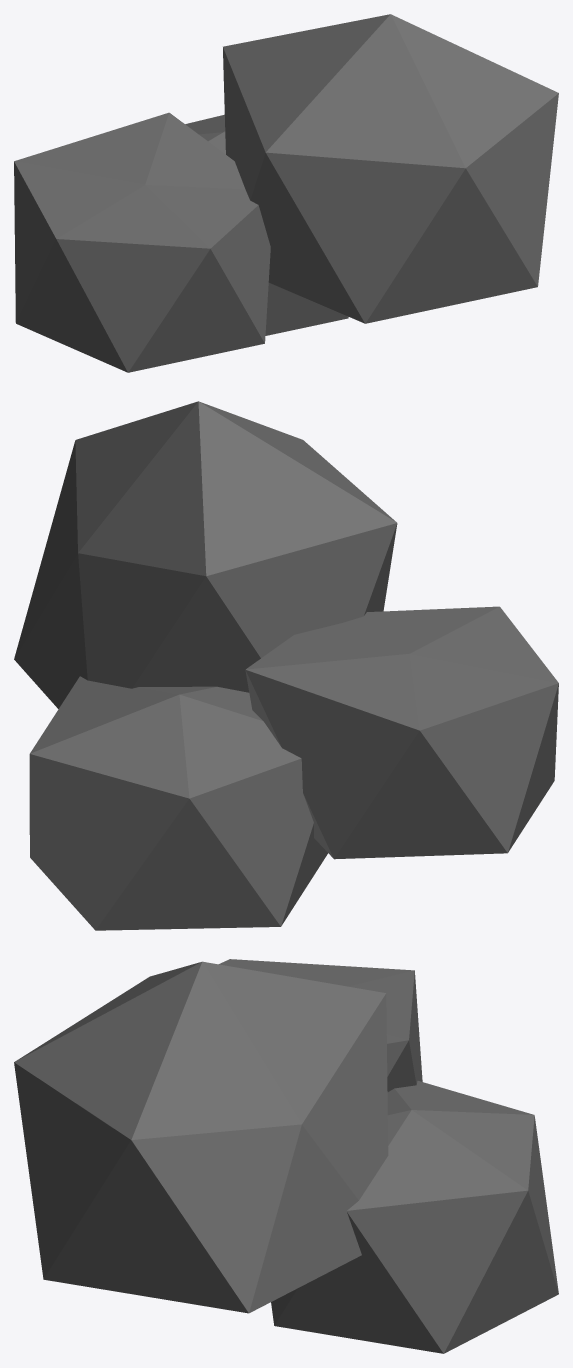
File: Stones_01 1.fbx
3 renders of one model, top to bottom at view 1: azimuth 30°, elevation 25°; view 2: azimuth 150°, elevation 25°; view 3: azimuth 270°, elevation 25°, orthographic. The views are drawn at different scales.
Visible parts, largest first — view 1: Stone_1.006; view 2: Stone_1.006; view 3: Stone_1.006.
Boxes of the visible parts, box(x1,y1,x2,y2) form: Stone_1.006: box(14, 14, 558, 372); Stone_1.006: box(14, 401, 558, 930); Stone_1.006: box(14, 959, 558, 1353).
Bounding box in the file's own units: 0.3963 × 0.3559 × 0.2669.
1 material, 1 textured.
